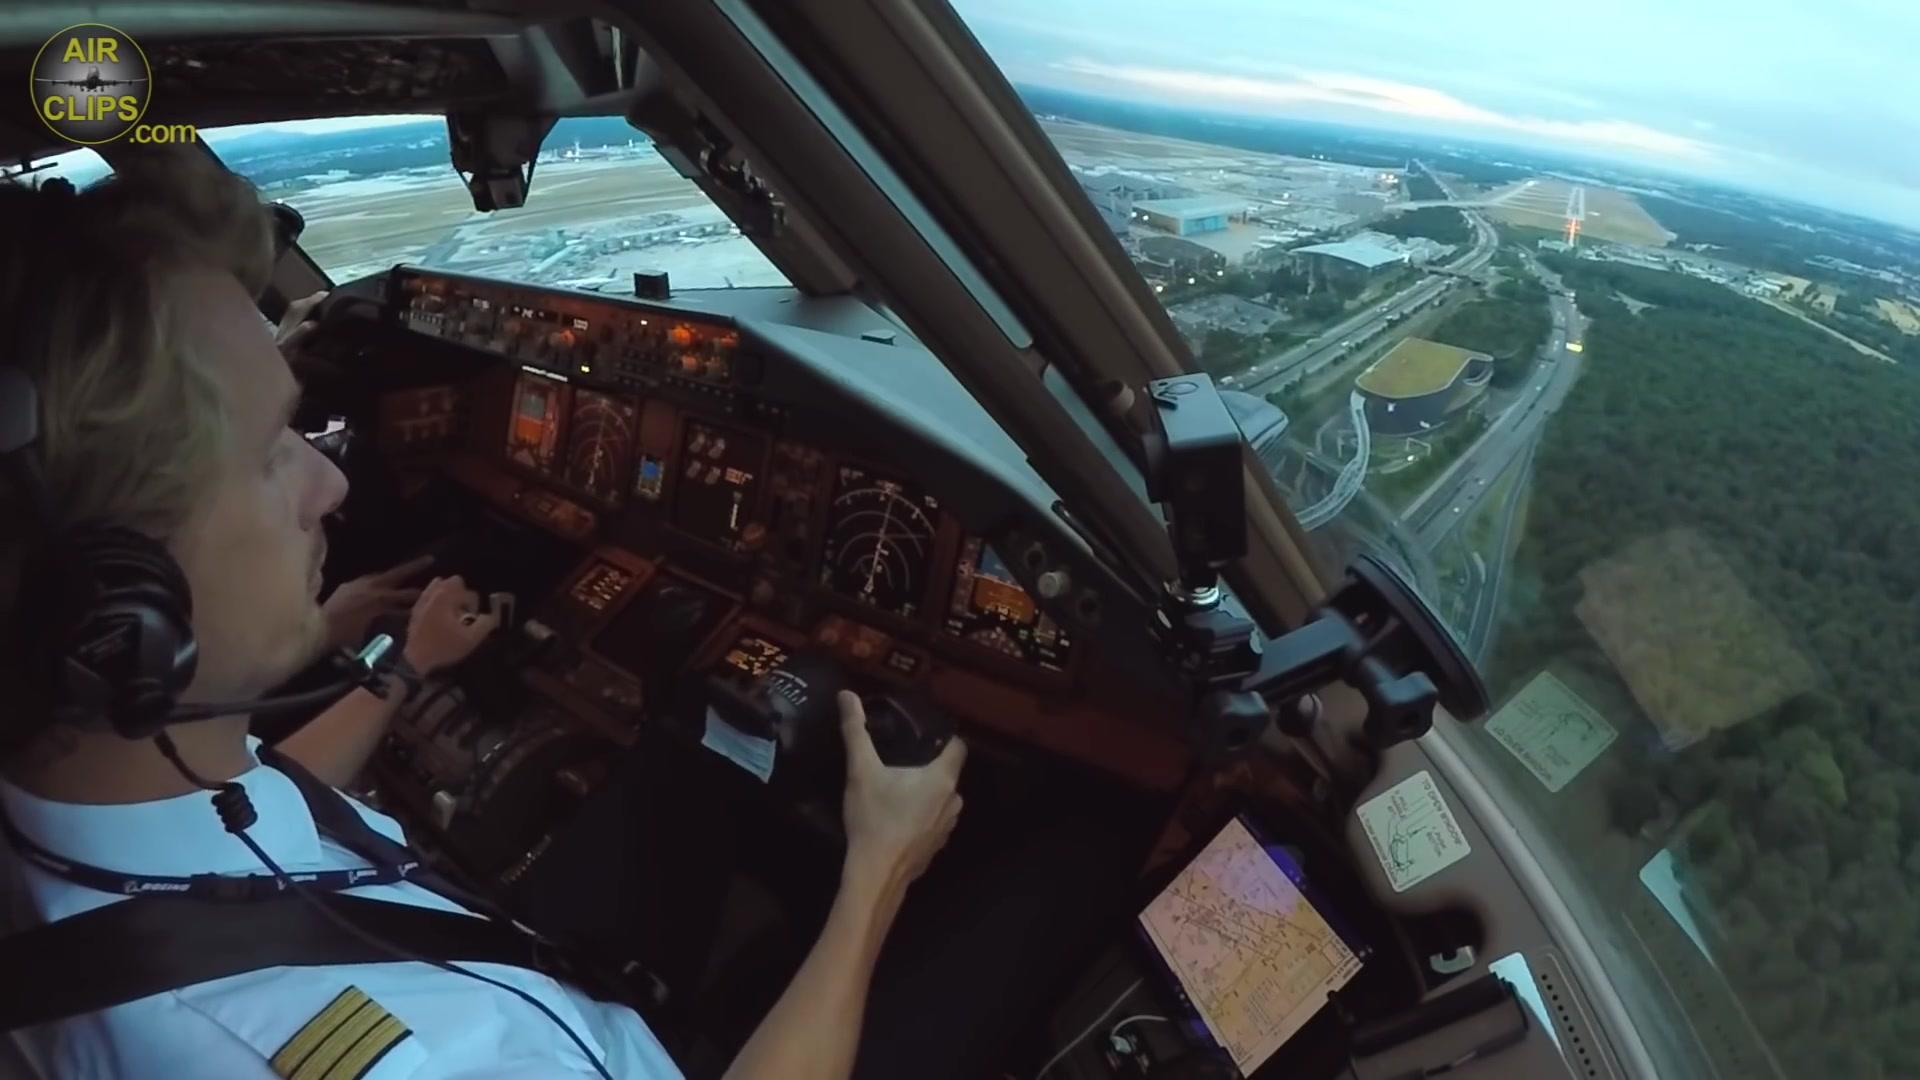runway: (1561, 185, 1589, 223)
